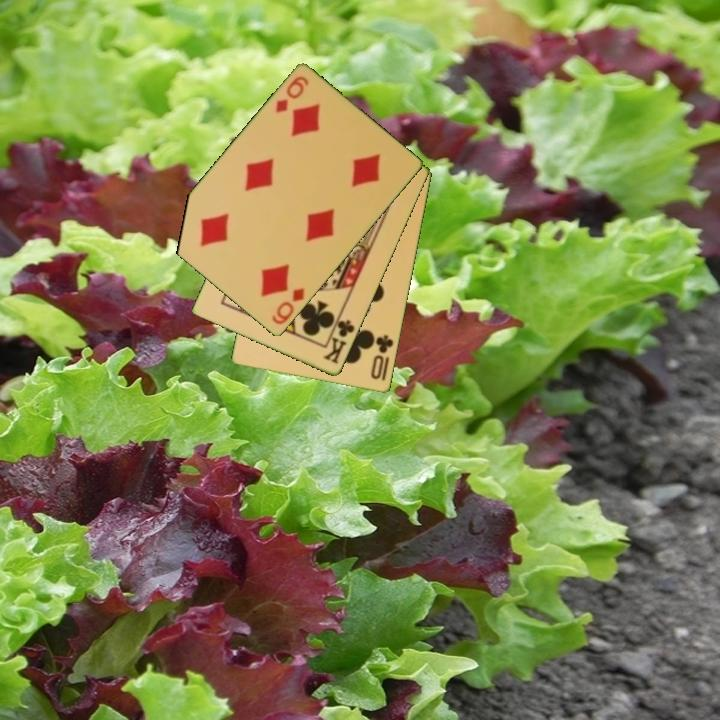10c: (367, 331, 397, 383)
6d: (268, 285, 308, 328), (272, 73, 312, 116)
Kc: (320, 311, 358, 367)
